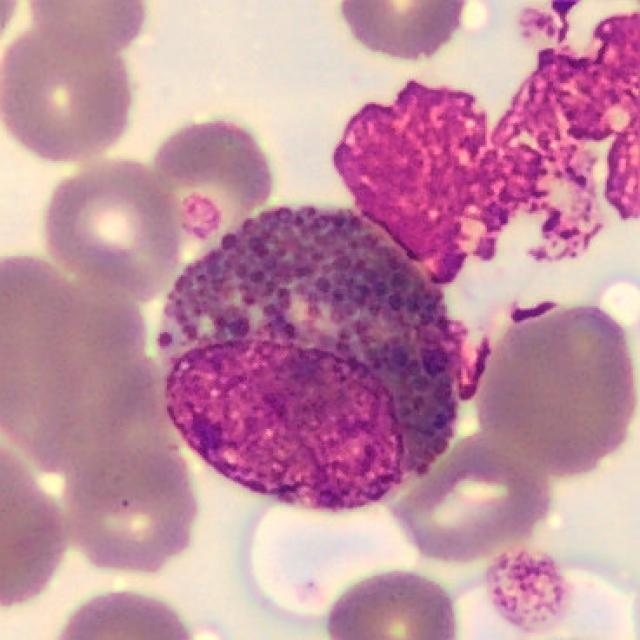Promielocito: (157, 202, 459, 516)
